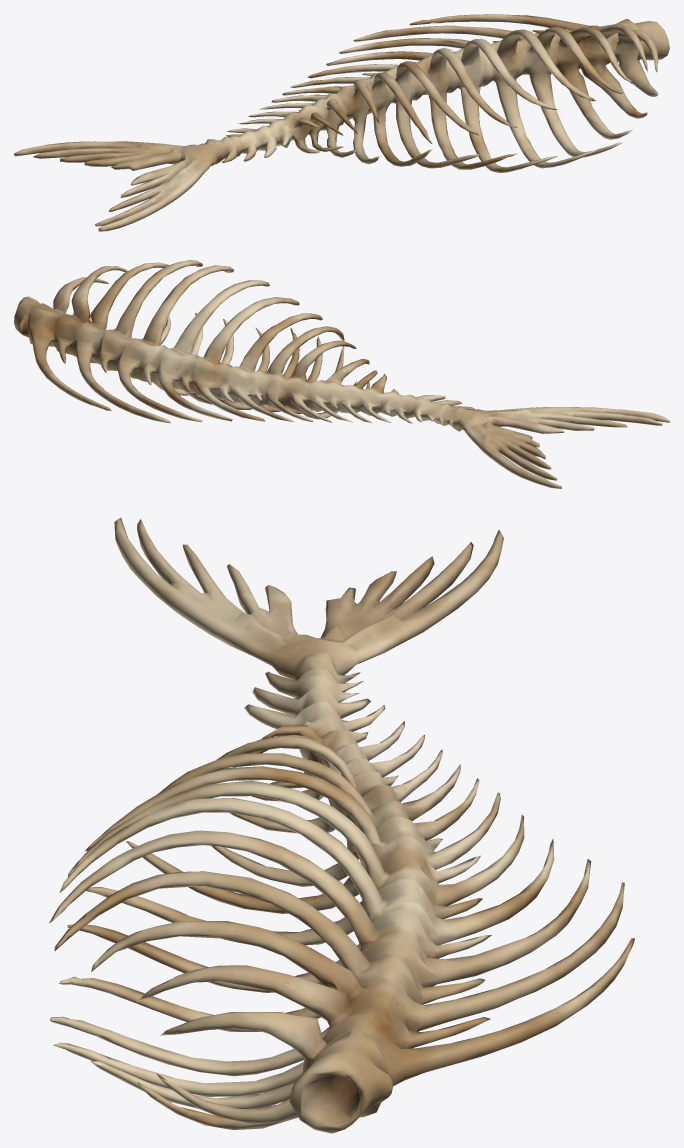
The model's file is bone_spine_l.glb.
The picture shows the model from 3 angles, top to bottom: view 1: azimuth 30°, elevation 25°; view 2: azimuth 150°, elevation 25°; view 3: azimuth 270°, elevation 25°; orthographic projection. The views are drawn at different scales.
Parts seen in each view (by area): view 1: bone_spine_l; view 2: bone_spine_l; view 3: bone_spine_l.
Part boxes in pixels (x1=…): bone_spine_l: x1=14, y1=14, x2=669, y2=231; bone_spine_l: x1=14, y1=260, x2=669, y2=488; bone_spine_l: x1=49, y1=517, x2=634, y2=1133.
Bounding box in the file's own units: 0.3 × 0.0572 × 0.1278.
Materials: 1 (1 with a texture image).
